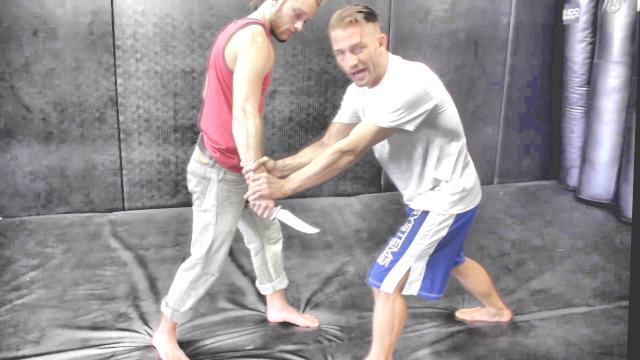knife: (245, 197, 326, 239)
